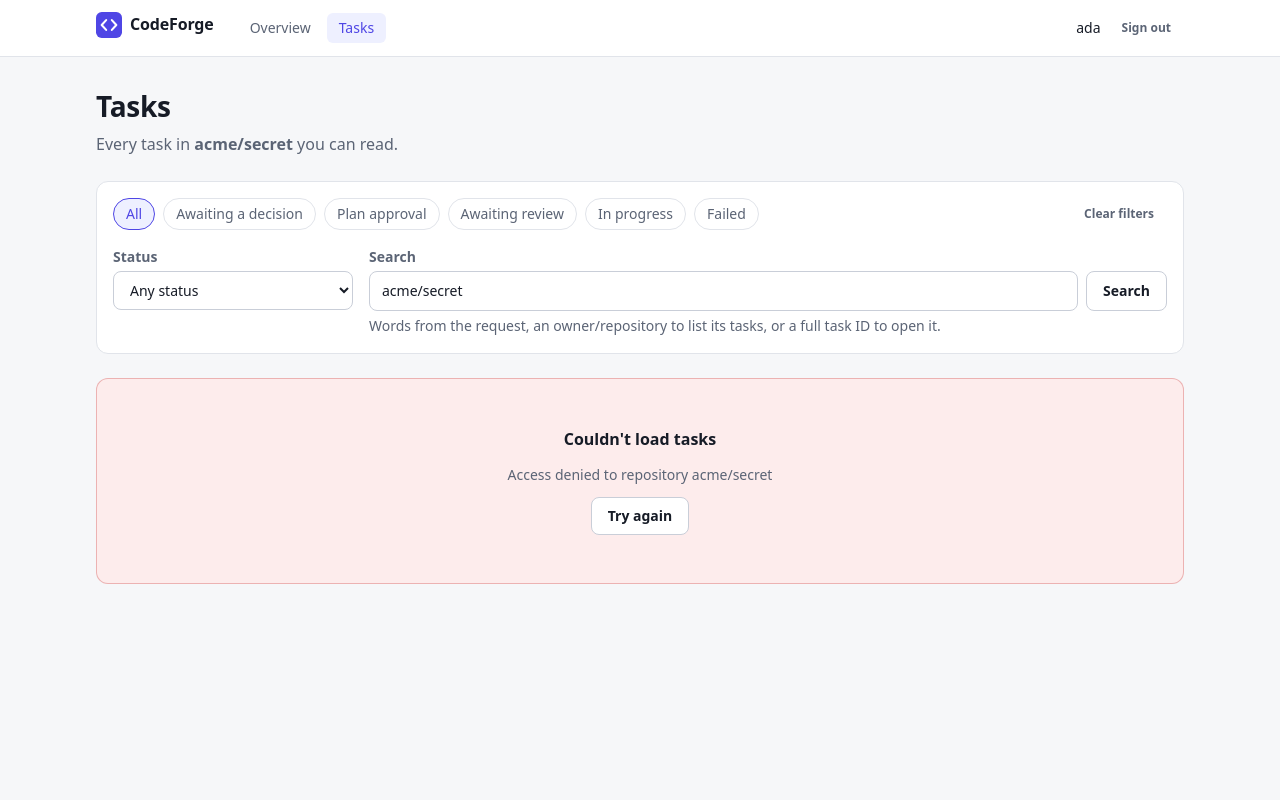
Test: task list › explains an error and retries
Expected: the message shows "Access denied to repository acme/secret", [508,465,772,484]
Click the button "Try again": coordinates (640, 516) [591,497,689,535]
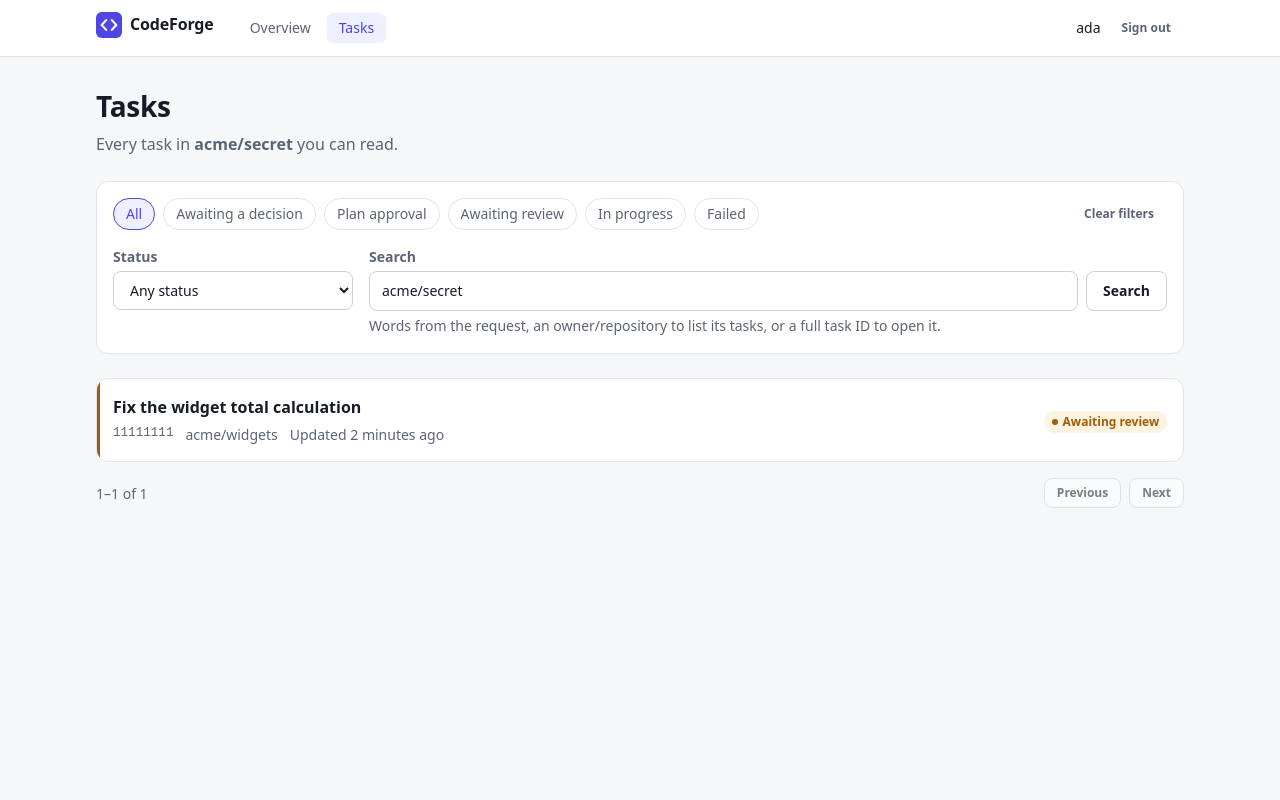
Now the list is shown, box [96,378,1184,462]
